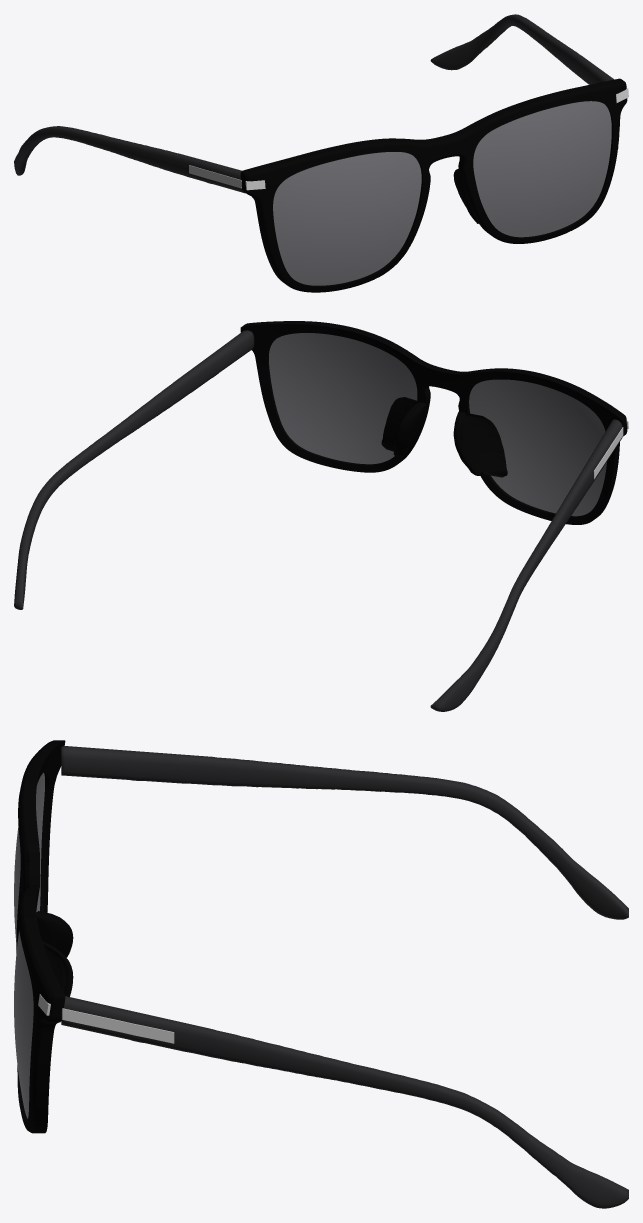
3 views of the same model, one above another, from view 1: azimuth 30°, elevation 25°; view 2: azimuth 150°, elevation 25°; view 3: azimuth 270°, elevation 25° (orthographic). The views are drawn at different scales.
Parts seen in each view (by area): view 1: Lens_L, Lens_R, Front, Temple_L, Temple_R, Temple_Inlay_L; view 2: Front, Lens_R, Lens_L, Temple_R, Temple_L; view 3: Temple_L, Temple_R, Front, Lens_R, Temple_Inlay_R, Lens_L.
Part boxes in pixels (left/top/right/bottom): Lens_L: left=273, top=152, right=421, bottom=285; Lens_R: left=473, top=101, right=611, bottom=237; Front: left=240, top=78, right=627, bottom=292; Temple_L: left=14, top=126, right=245, bottom=193; Temple_R: left=430, top=14, right=614, bottom=84; Temple_Inlay_L: left=189, top=165, right=241, bottom=188; Front: left=240, top=321, right=627, bottom=524; Lens_R: left=269, top=333, right=417, bottom=464; Lens_L: left=469, top=379, right=606, bottom=516; Temple_R: left=14, top=330, right=254, bottom=609; Temple_L: left=430, top=419, right=623, bottom=711; Temple_L: left=61, top=746, right=628, bottom=919; Temple_R: left=61, top=996, right=628, bottom=1208; Front: left=16, top=740, right=73, bottom=1133; Lens_R: left=14, top=931, right=33, bottom=1118; Temple_Inlay_R: left=62, top=1008, right=174, bottom=1043; Lens_L: left=14, top=772, right=44, bottom=941.
Bounding box in the file's own units: 0.1846 × 0.0568 × 0.1499.
Materials: 5 (1 with a texture image).
